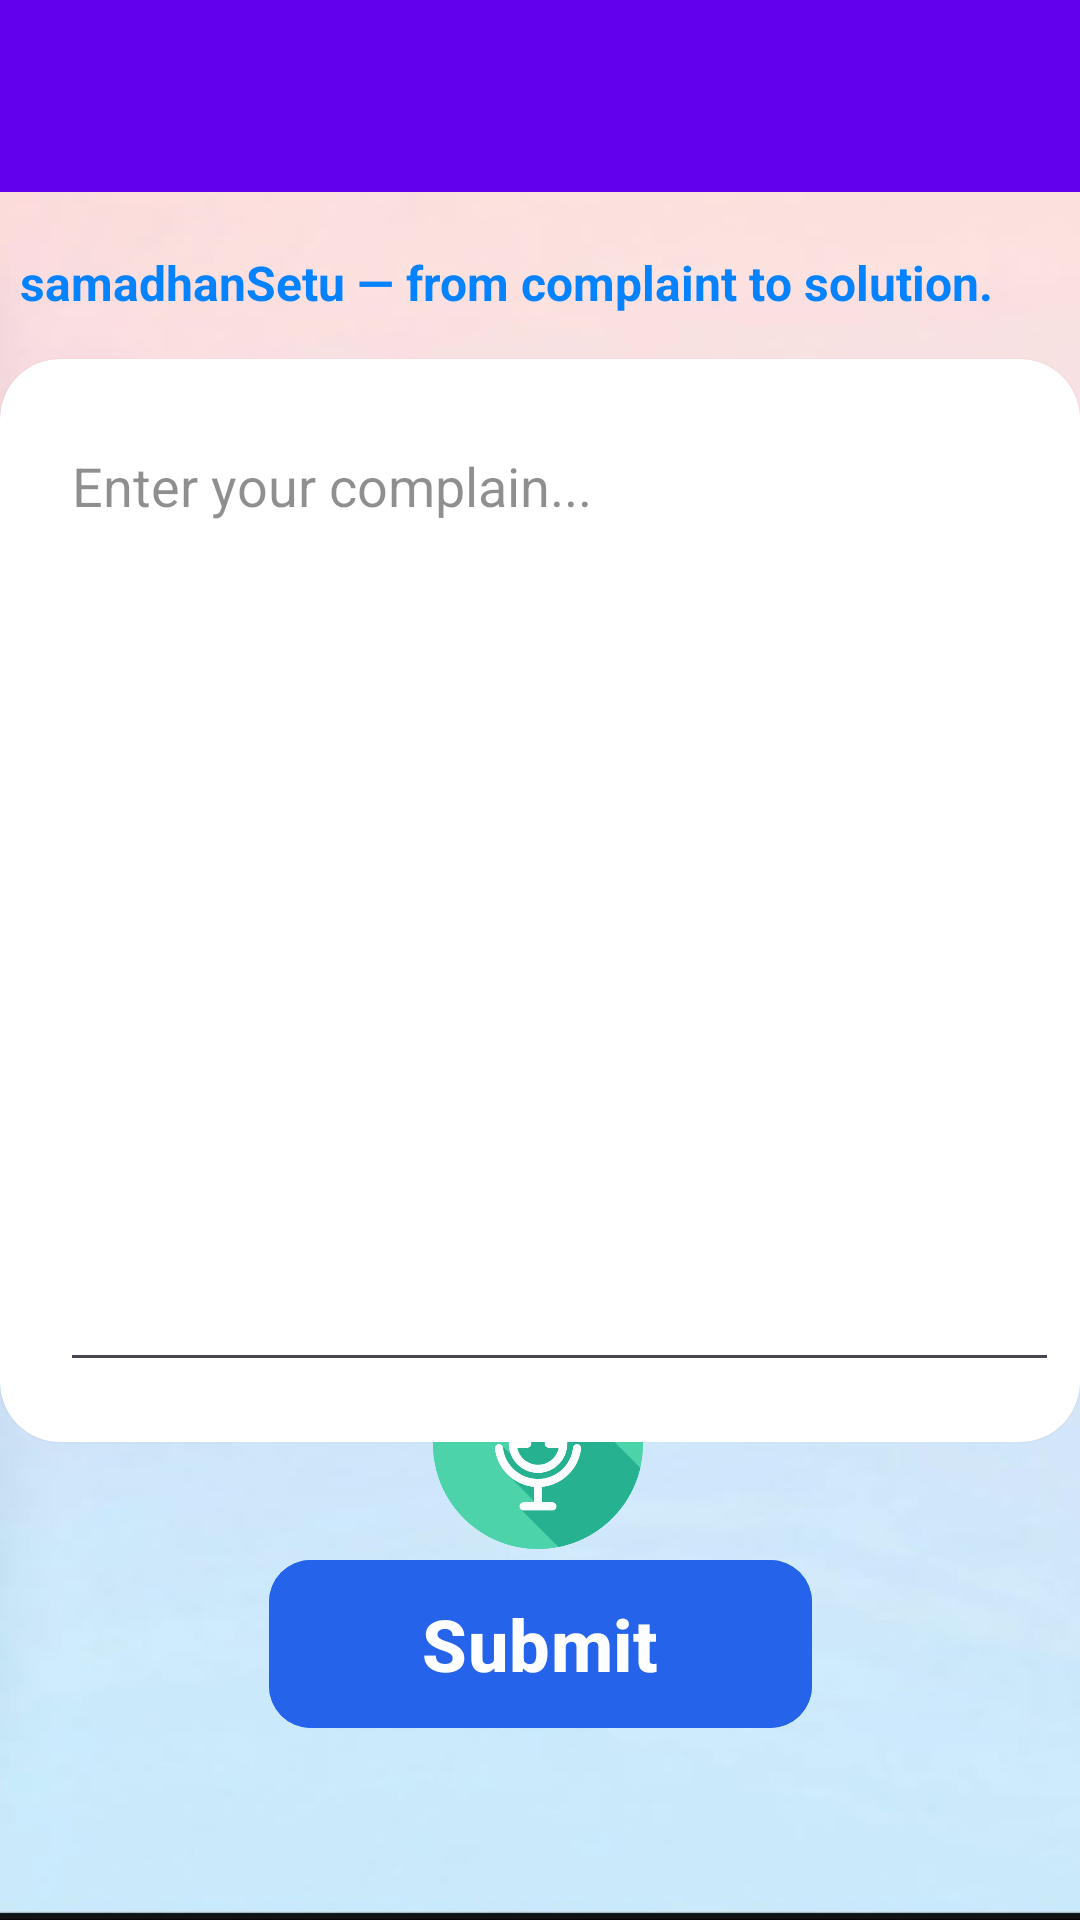

Point at icon controls on the screen. Image size 1080px×1920px, points as point (x, y).
mic: point (538, 1444)
